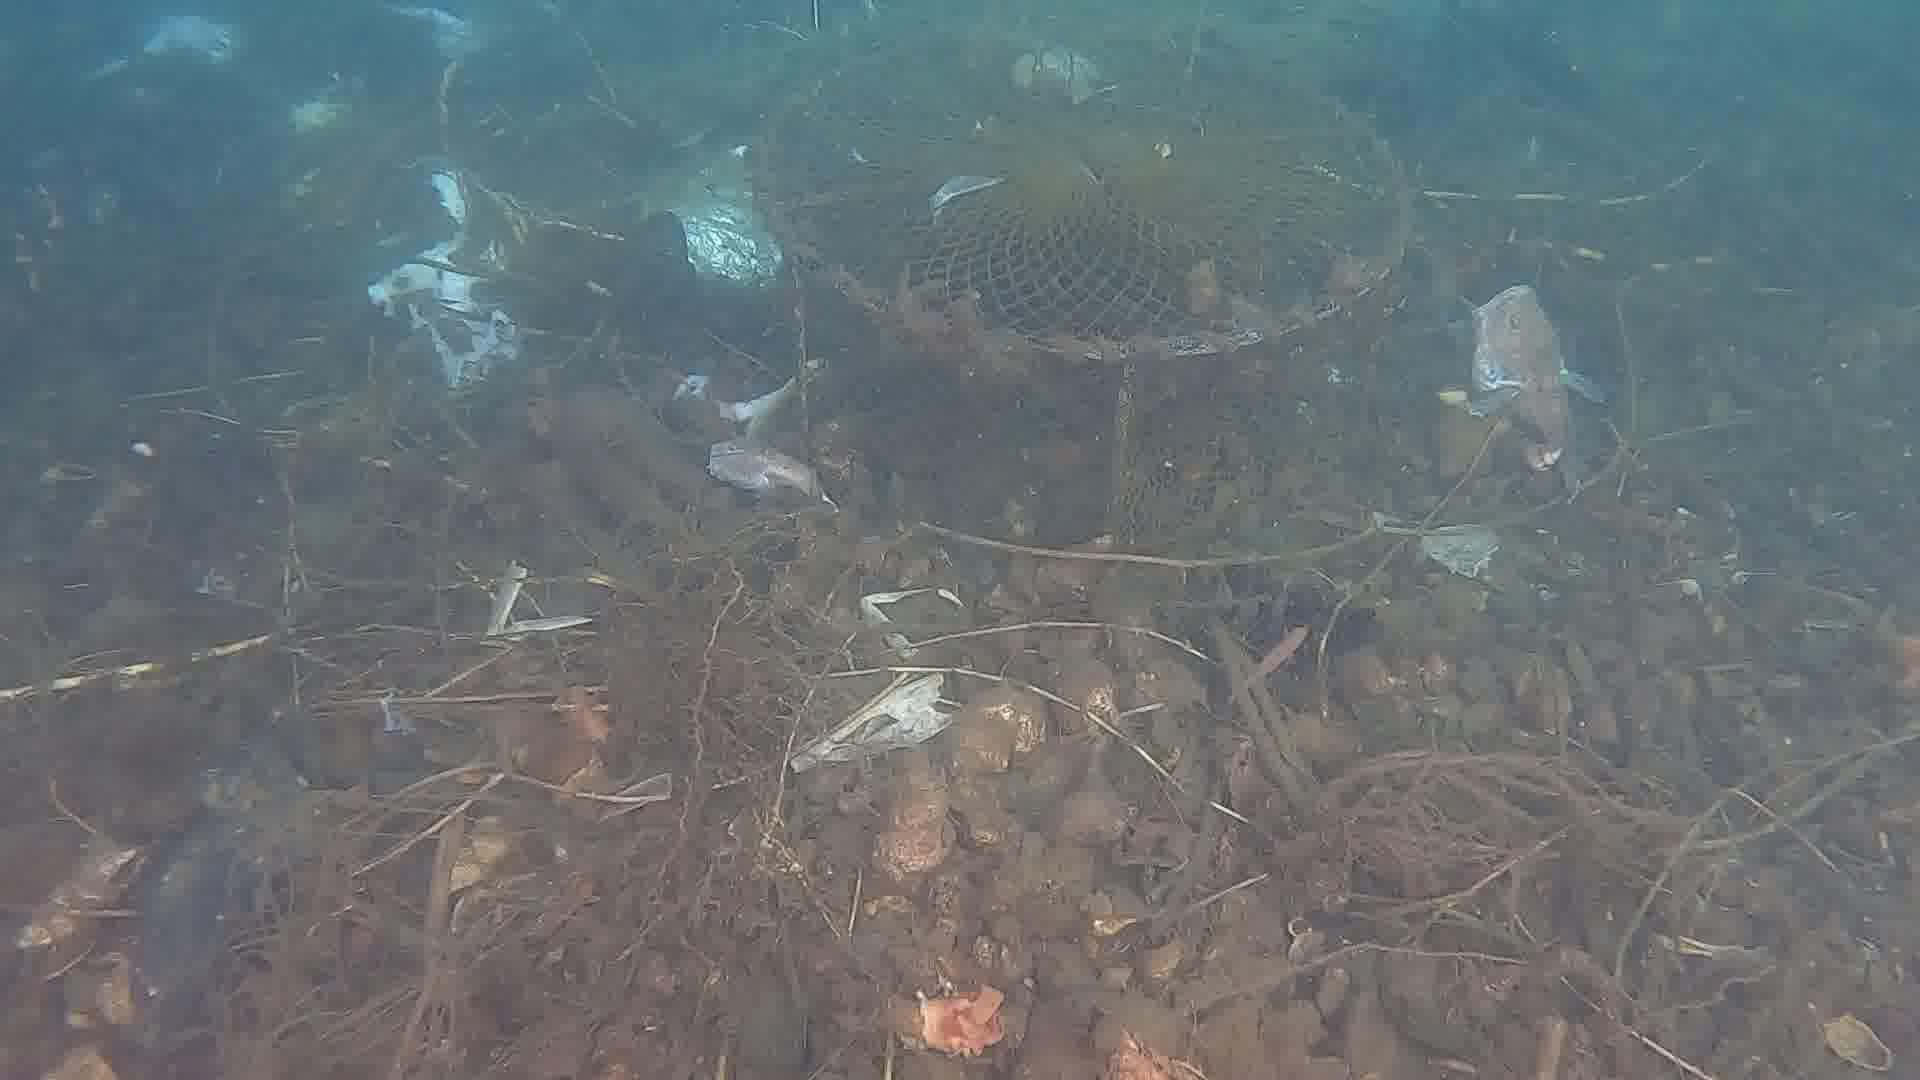circular fish trap: (752, 18, 1419, 564)
